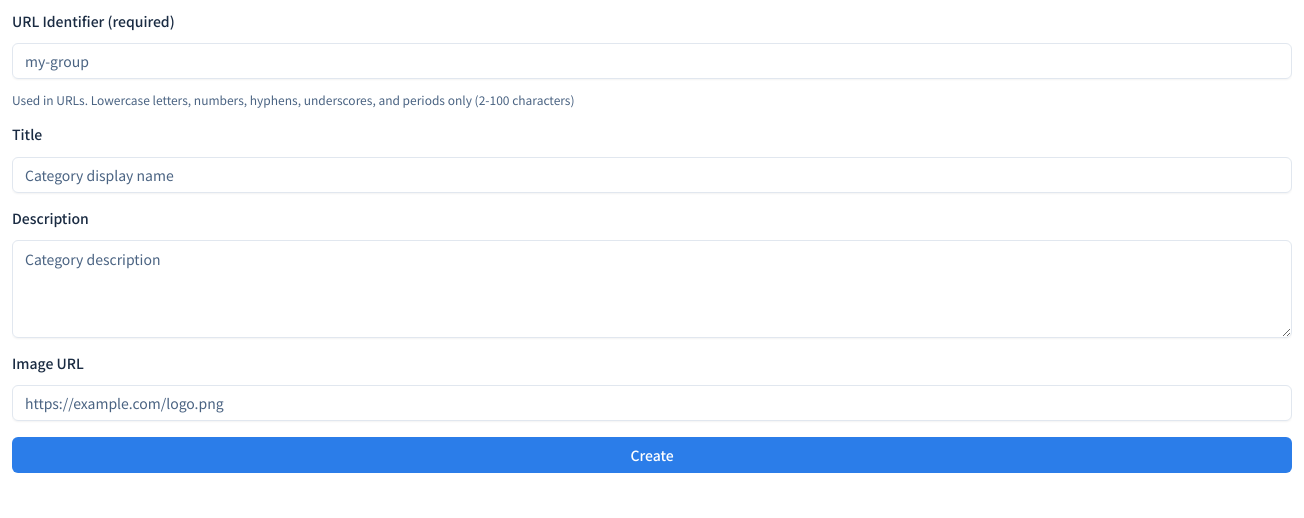
Test: GroupForm › should show validation error when name is empty on submit
The width and height of the screenshot is (1304, 518).
Click the button "Create" at (652, 455), box [12, 437, 1292, 473]
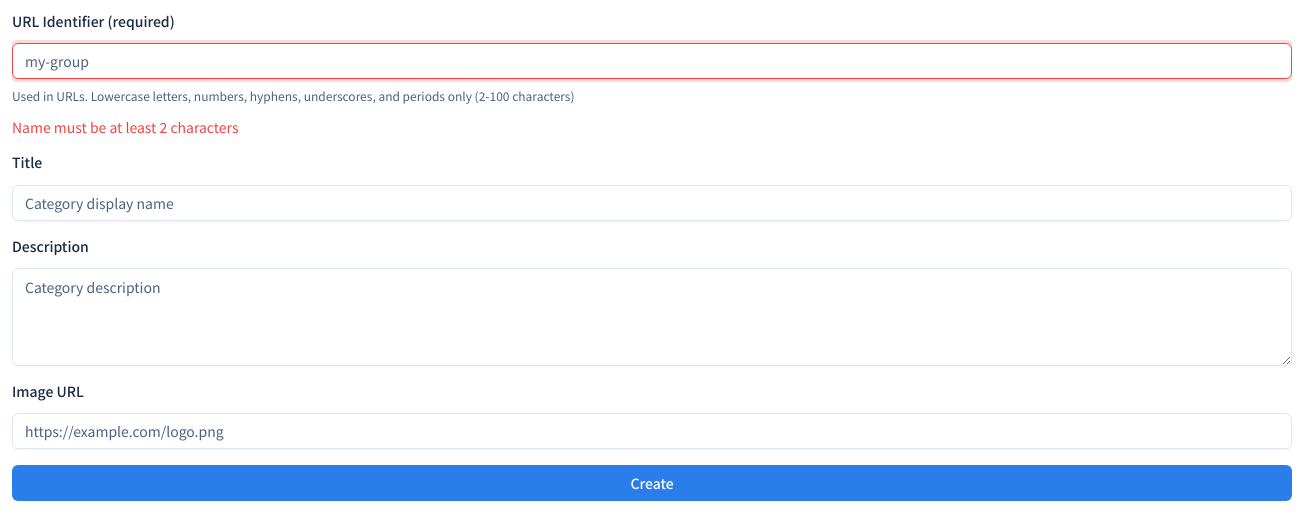
Expected: the text "Name must be at least 2 characters" is shown, [12, 117, 238, 137]
